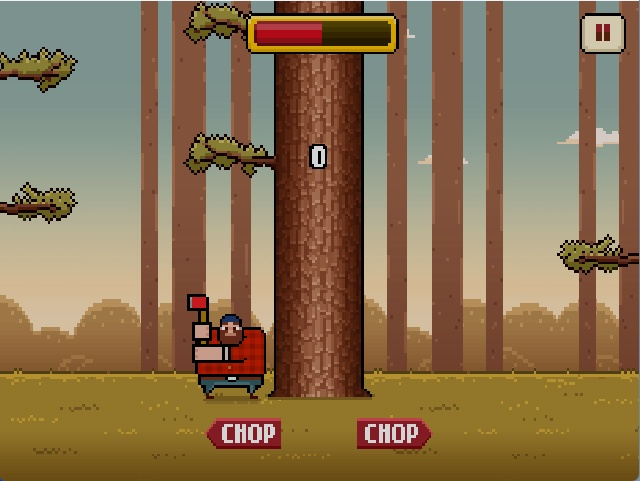left_obs: (182, 128, 276, 182)
timberman: (181, 289, 269, 403)
